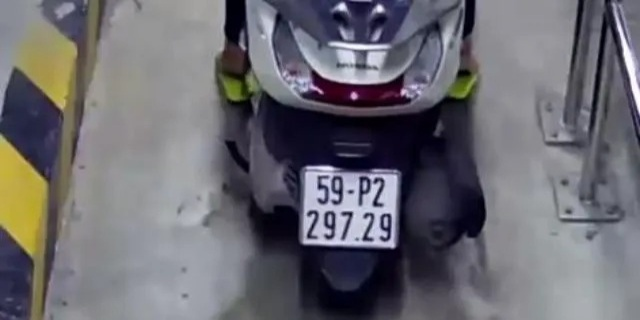bien_so: (300, 165, 398, 248)
